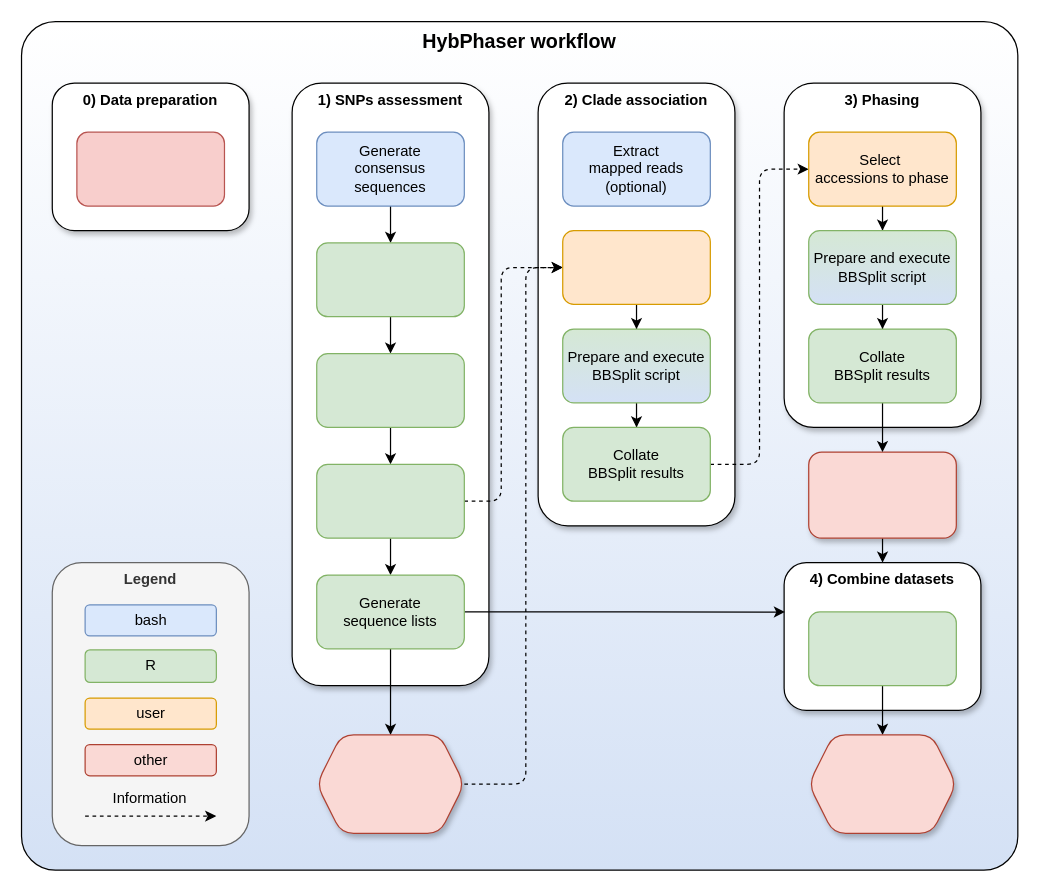
The diagram is 1039 pixels wide and 892 high, and some of its shapes have lost their labels. The centre of each missing label's shape, as x and y in pixels:
"Assemble phased accessions ( HybPiper , HybPhaser part 1)" belongs at point (883, 496).
"Assemble sequences in HybPiper" belongs at point (150, 168).
"Assess heterozygosity and allele divergence" belongs at point (389, 500).
"Collect SNPs info" belongs at point (389, 279).
"Combine phased and normal sequence lists" belongs at point (881, 648).
"Generate alignment and phylogeny (normal)" belongs at point (391, 785).
"Generate alignment and phylogeny (with phased)" belongs at point (883, 785).
"Optimise dataset (optional)" belongs at point (389, 389).
"Select clade references" belongs at point (635, 266).
